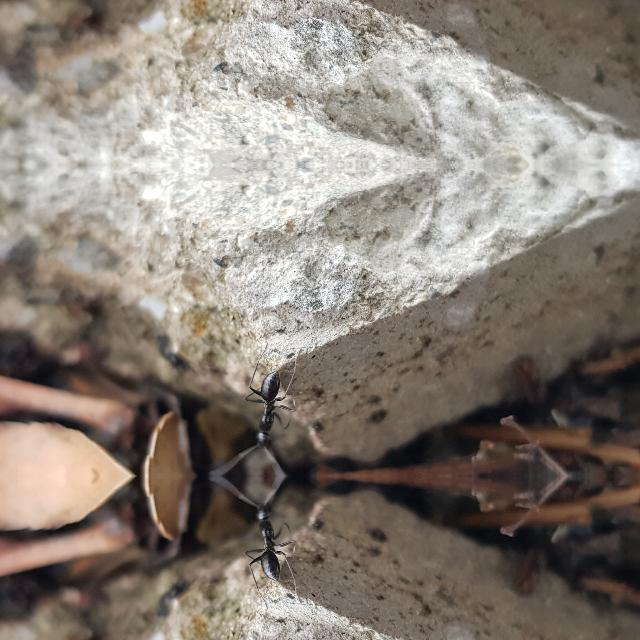Camponotus: (228, 366, 314, 452), (228, 498, 314, 584)
